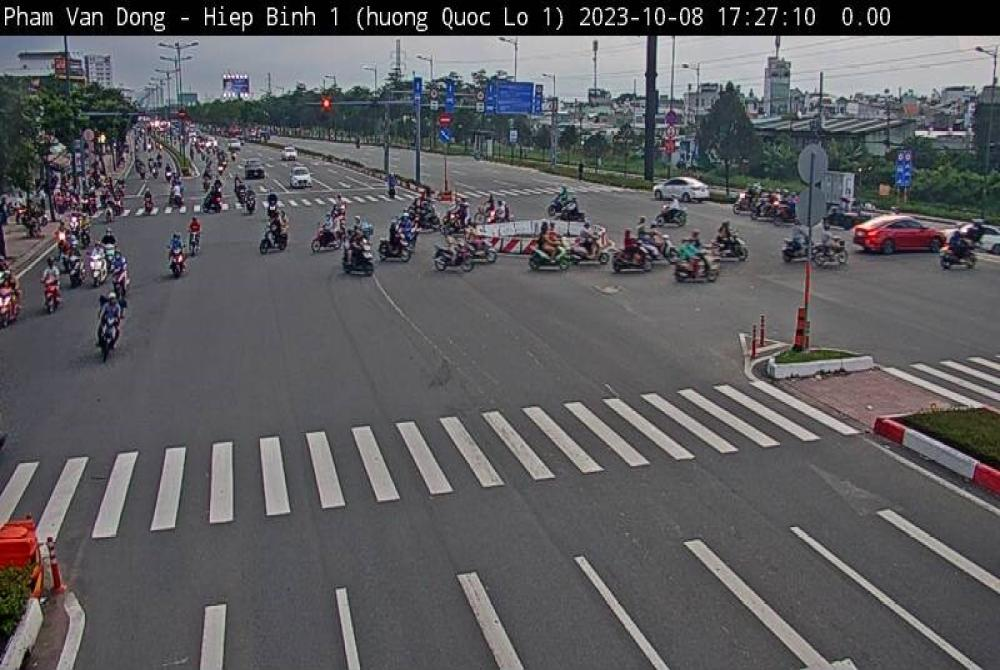car: (852, 216, 949, 255), (654, 178, 712, 203), (290, 167, 316, 189), (245, 160, 265, 179)
motorbike: (515, 233, 577, 280), (86, 298, 126, 349), (250, 220, 298, 258), (433, 235, 478, 275), (713, 225, 747, 271), (583, 226, 614, 266), (673, 257, 718, 284), (36, 275, 68, 311), (819, 232, 847, 272), (610, 247, 654, 272), (380, 228, 406, 265), (166, 246, 184, 299), (344, 247, 377, 275), (0, 283, 20, 326), (778, 232, 804, 264), (315, 225, 338, 258)
